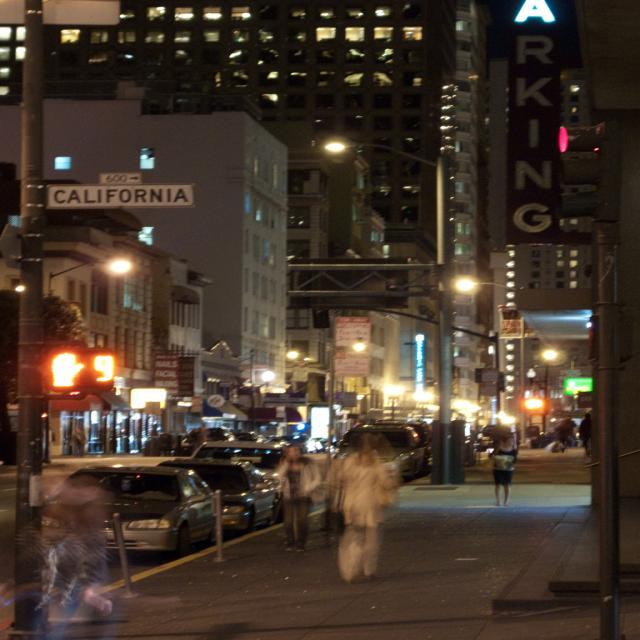traffic light: (43, 347, 115, 388)
